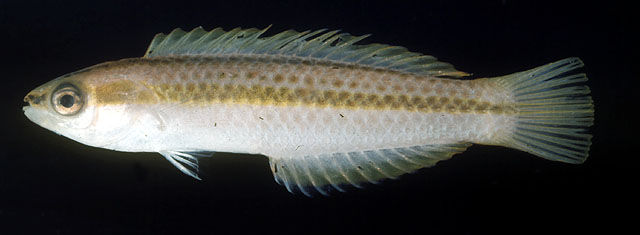fish: (22, 22, 595, 197)
